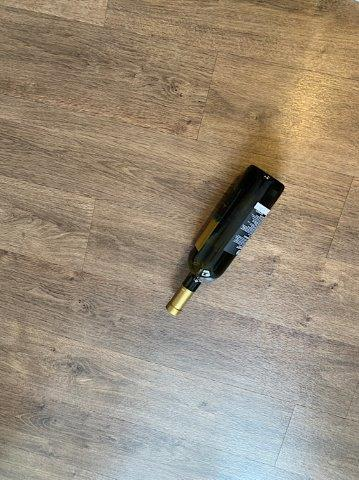botolkaca: (166, 165, 286, 314)
